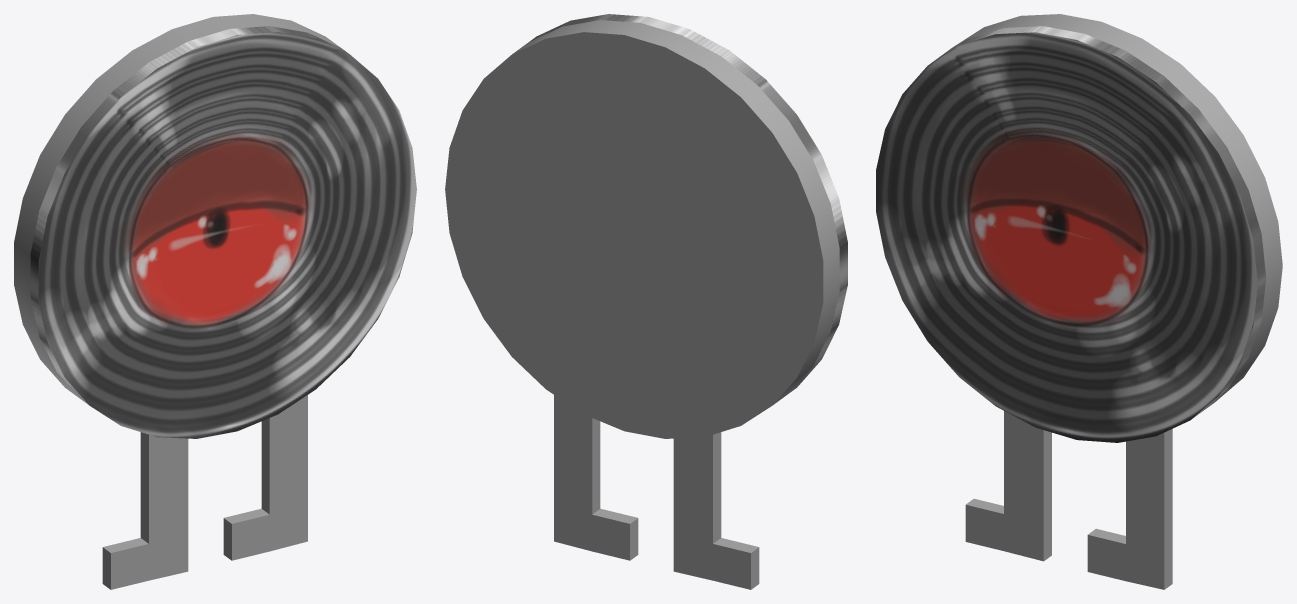
Rendered from diskman_red.fbx.
3 views of the same model, side by side, from view 1: azimuth 30°, elevation 25°; view 2: azimuth 150°, elevation 25°; view 3: azimuth 330°, elevation 25° (orthographic).
Parts seen in each view (by area): view 1: pCylinder3; view 2: pCylinder3; view 3: pCylinder3.
Part boxes in pixels (x1,y1,x2,y2): pCylinder3: (14, 14, 416, 589); pCylinder3: (445, 14, 847, 589); pCylinder3: (876, 14, 1282, 589).
Size of the model in its own units: 7.98 by 10.74 by 0.903.
3 materials, 2 textured.
